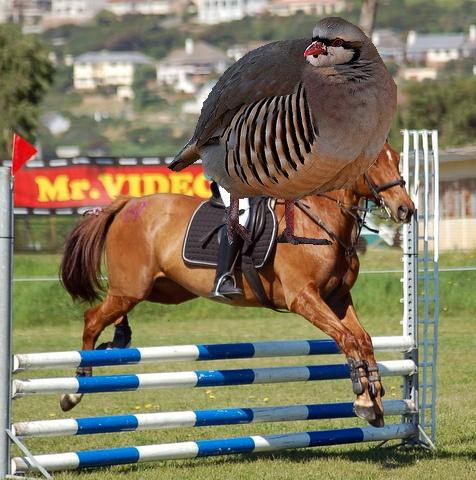tampered: (168, 18, 397, 245)
